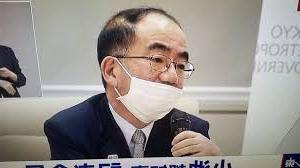mask_weared_incorrect: (121, 41, 198, 109)
